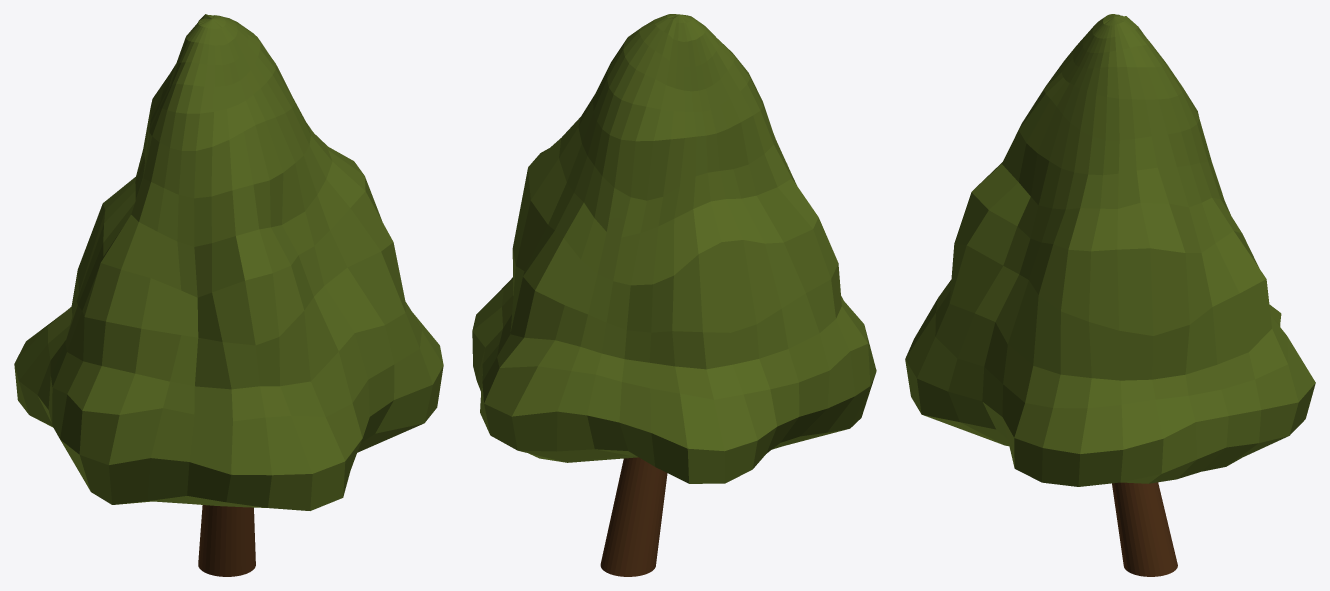
File: Tree4.fbx
3 views of the same model, side by side, from view 1: azimuth 30°, elevation 25°; view 2: azimuth 150°, elevation 25°; view 3: azimuth 270°, elevation 25° (orthographic). The views are drawn at different scales.
Visible parts, largest first — view 1: Tree4_LOD0; view 2: Tree4_LOD0; view 3: Tree4_LOD0.
Boxes of the visible parts, <box> form: Tree4_LOD0: <box>14,14,443,576</box>; Tree4_LOD0: <box>472,14,876,576</box>; Tree4_LOD0: <box>905,14,1315,576</box>.
Size of what is drawn, in the model's own units: 387 by 557 by 389.
